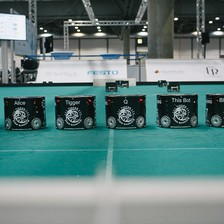goal: (91, 77, 139, 88)
robot: (1, 93, 49, 132), (102, 91, 150, 130), (52, 92, 99, 131), (153, 91, 200, 129), (203, 90, 224, 128), (164, 79, 181, 93), (105, 81, 119, 92), (156, 78, 164, 87), (120, 80, 129, 87), (115, 80, 122, 87)
